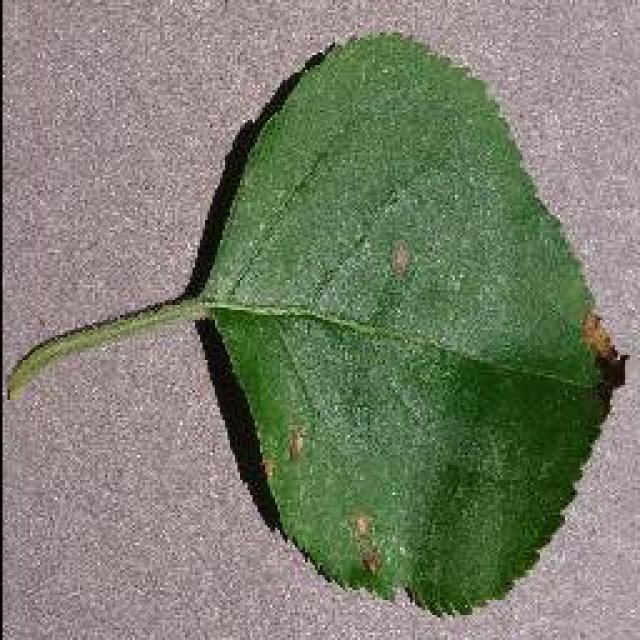Black_rot: (5, 28, 627, 618)
